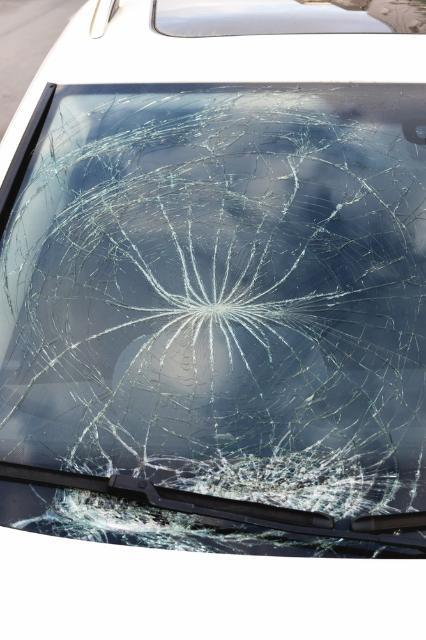glass shatter: (0, 83, 426, 559)
